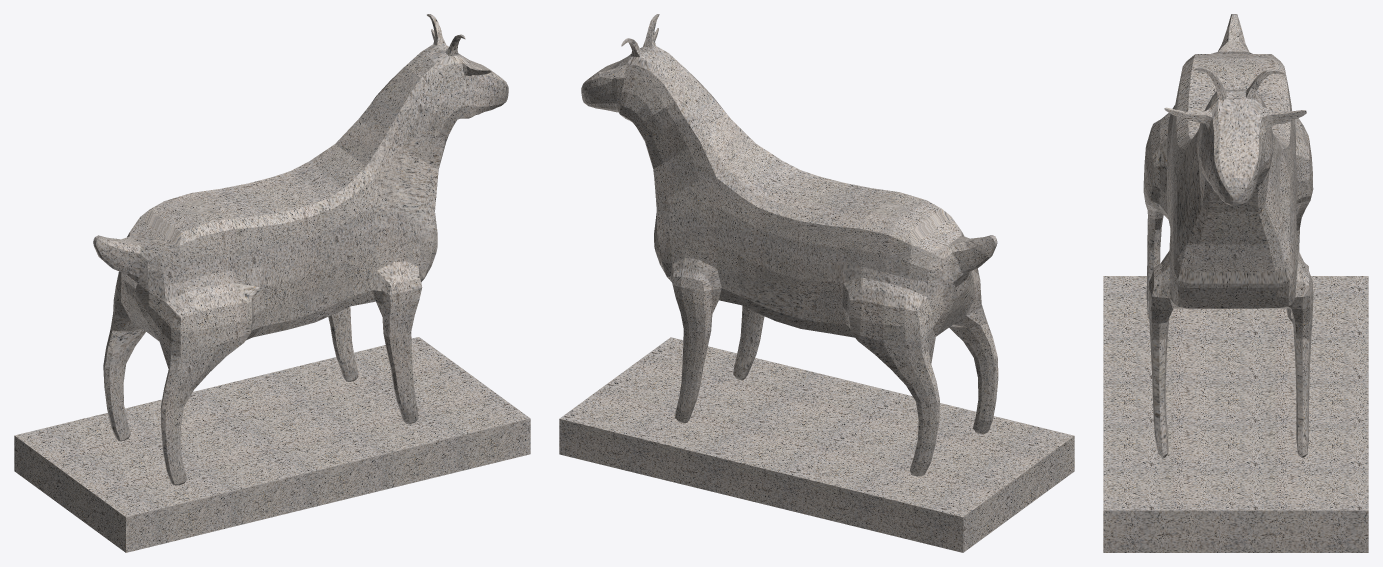
File: goatStatue.fbx
The picture shows the model from 3 angles, left to right: view 1: azimuth 30°, elevation 25°; view 2: azimuth 150°, elevation 25°; view 3: azimuth 270°, elevation 25°; orthographic projection. The views are drawn at different scales.
Visible parts, largest first — view 1: base; view 2: base; view 3: base.
Boxes of the visible parts, <box> form: base: <box>14,14,530,552</box>; base: <box>559,14,1074,552</box>; base: <box>1103,14,1368,552</box>.
Size of the model in its own units: 275 by 237 by 122.
